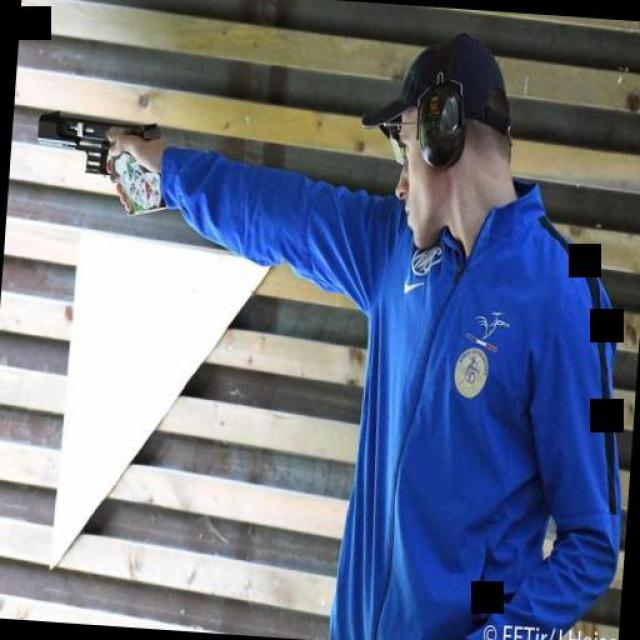gun: (27, 99, 182, 219)
